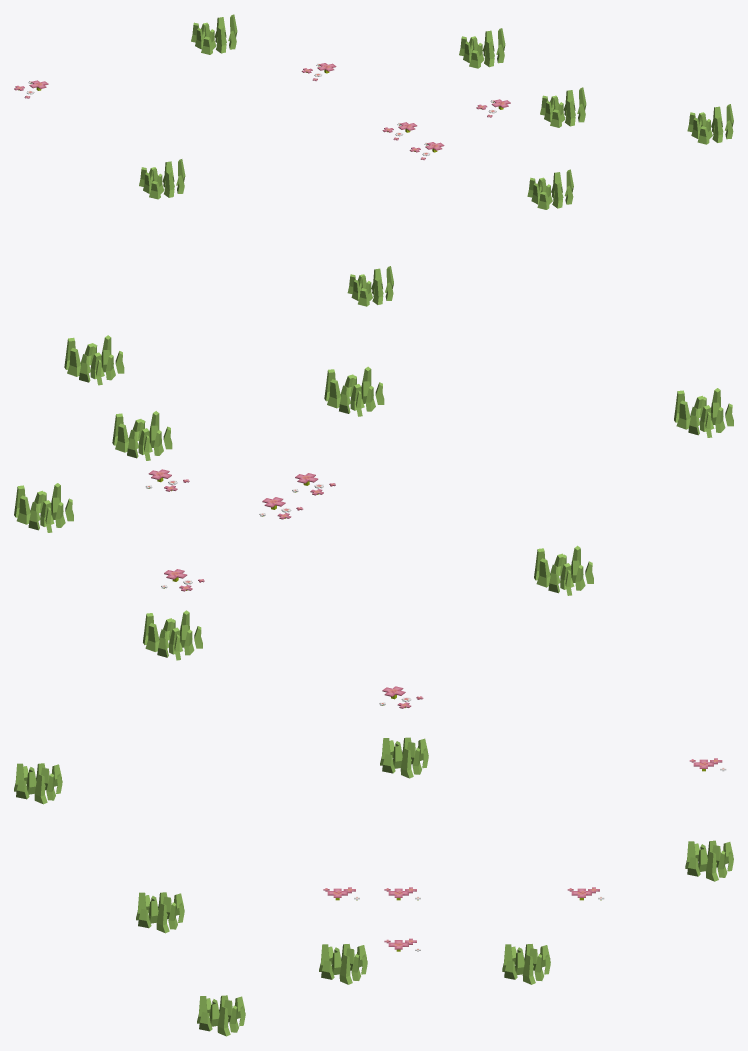
Rendered from flower_grass 3.fbx.
The picture shows the model from 3 angles, top to bottom: view 1: azimuth 30°, elevation 25°; view 2: azimuth 150°, elevation 25°; view 3: azimuth 270°, elevation 25°; orthographic projection. The views are drawn at different scales.
Visible parts, largest first — view 1: Flower_B_2; view 2: Flower_B_2; view 3: Flower_B_2.
Part boxes in pixels (box(x1,y1,x2,y2)): Flower_B_2: box(14, 14, 733, 306); Flower_B_2: box(14, 335, 733, 708); Flower_B_2: box(14, 737, 733, 1036).
Bounding box in the file's own units: 6546 × 294 × 7079.
Materials: 2 (2 with a texture image).
